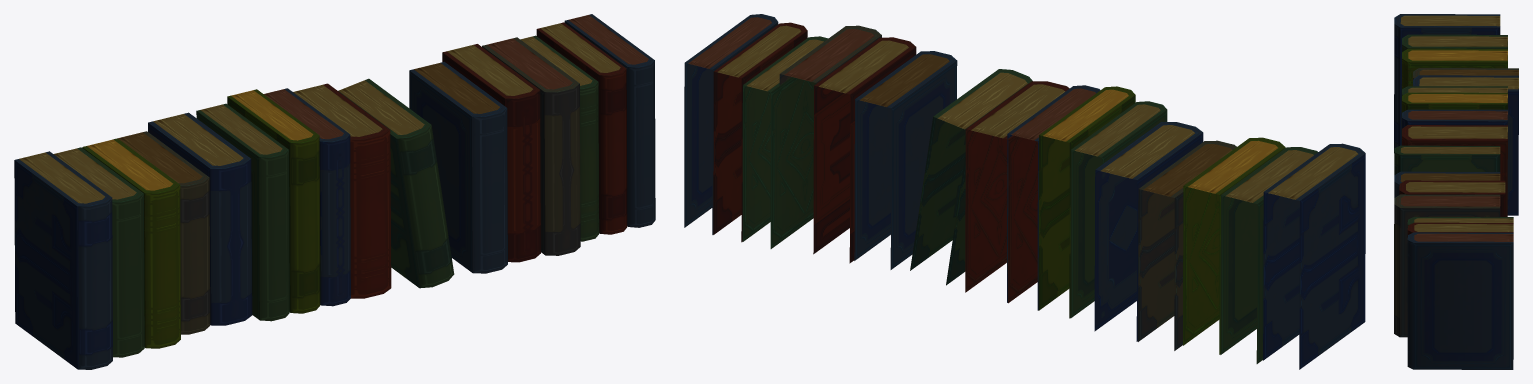
File: bookgroup-medium-1.glb
3 views of the same model, side by side, from view 1: azimuth 30°, elevation 25°; view 2: azimuth 150°, elevation 25°; view 3: azimuth 270°, elevation 25° (orthographic). The views are drawn at different scales.
Parts seen in each view (by area): view 1: BookGroup_Medium_1; view 2: BookGroup_Medium_1; view 3: BookGroup_Medium_1.
Boxes of the visible parts, <box> form: BookGroup_Medium_1: <box>14,14,655,369</box>; BookGroup_Medium_1: <box>684,14,1365,369</box>; BookGroup_Medium_1: <box>1394,14,1518,369</box>.
Bounding box in the file's own units: 1.06 × 0.2983 × 0.2475.
Materials: 1 (1 with a texture image).
